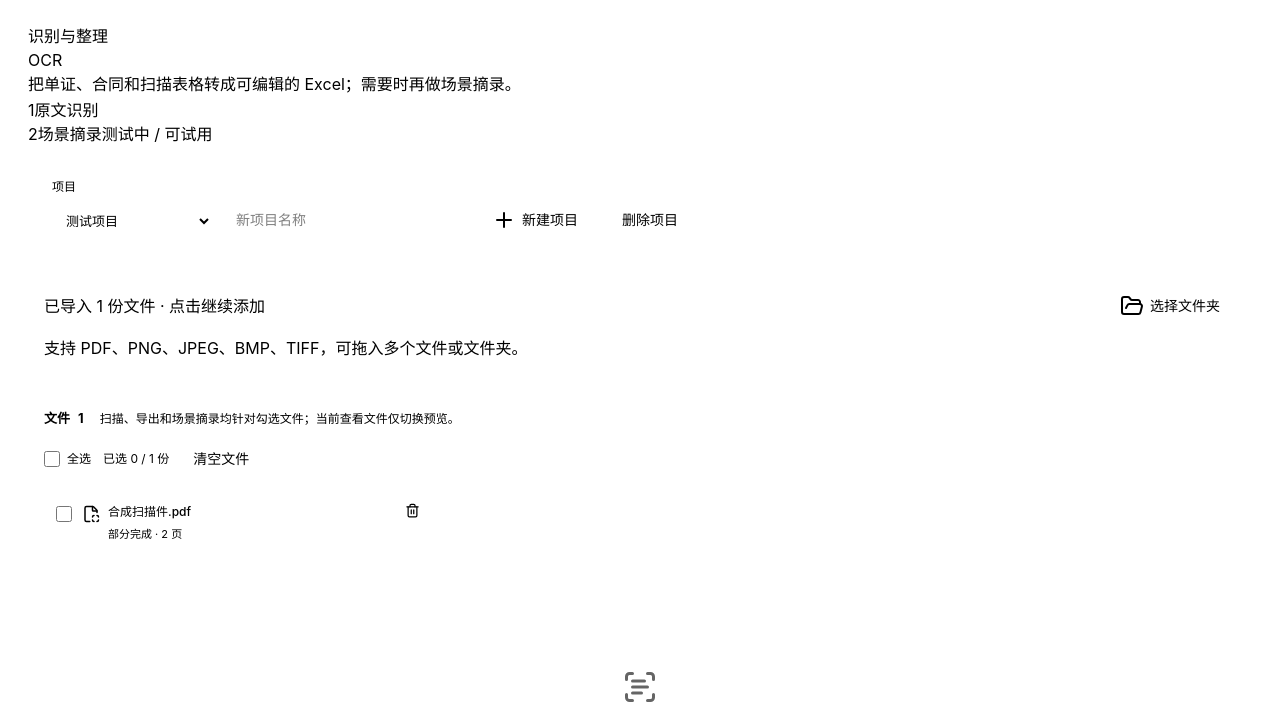
摘录区展示请求与复用统计，失败也保存纯统计诊断
Click the button "合成扫描件.pdf 部分完成 · 2 页" at (150, 511), box [44,489,433,567]
(page scrolled)
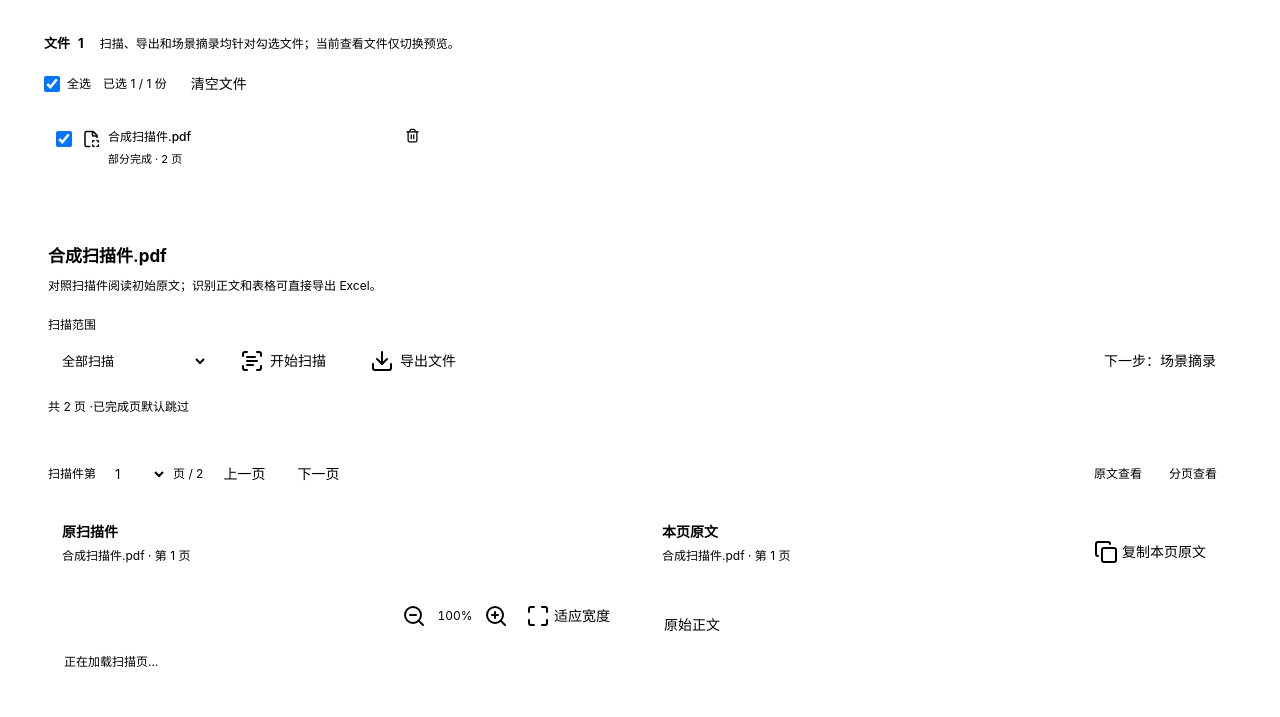
expect the button "开始扫描" is enabled: met, box [224,340,342,380]
Click the button "下一步：场景摘录" at (1160, 360), box [1088,340,1232,380]
(page scrolled)
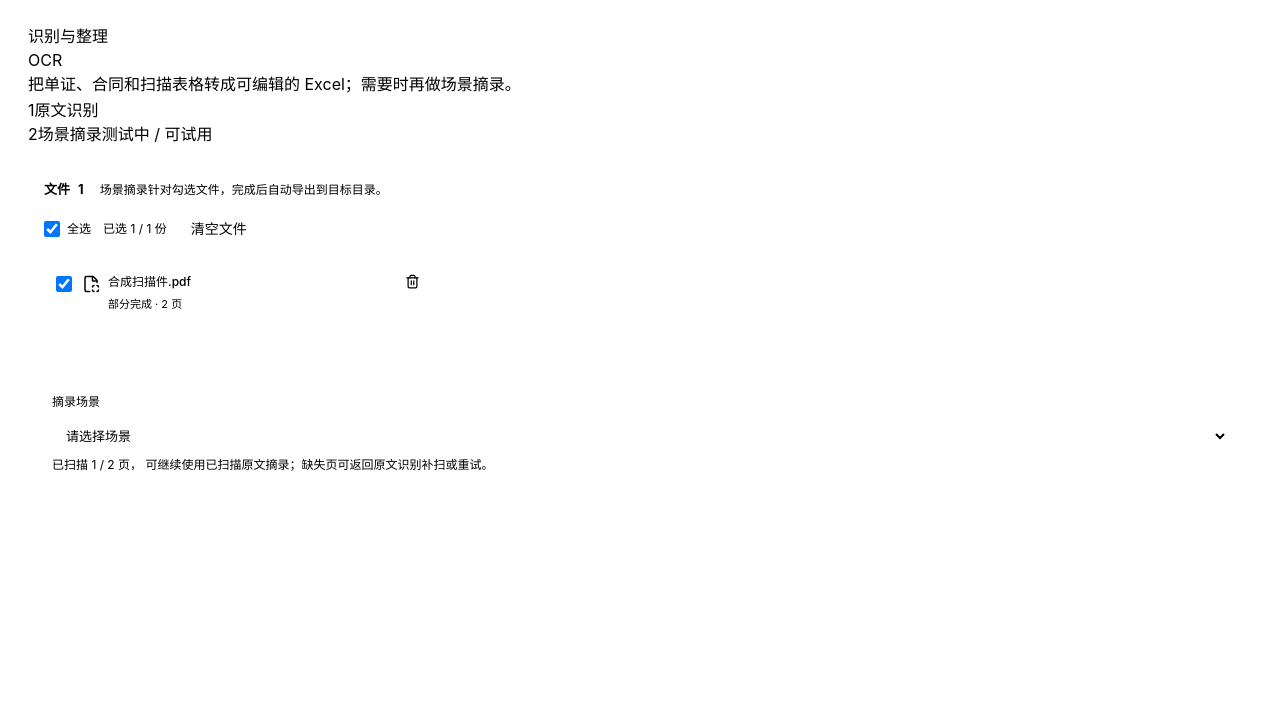
Select "借款通用条款" in the dropdown labelled "摘录场景" at (640, 436), box [52,417,1228,455]
(page scrolled)
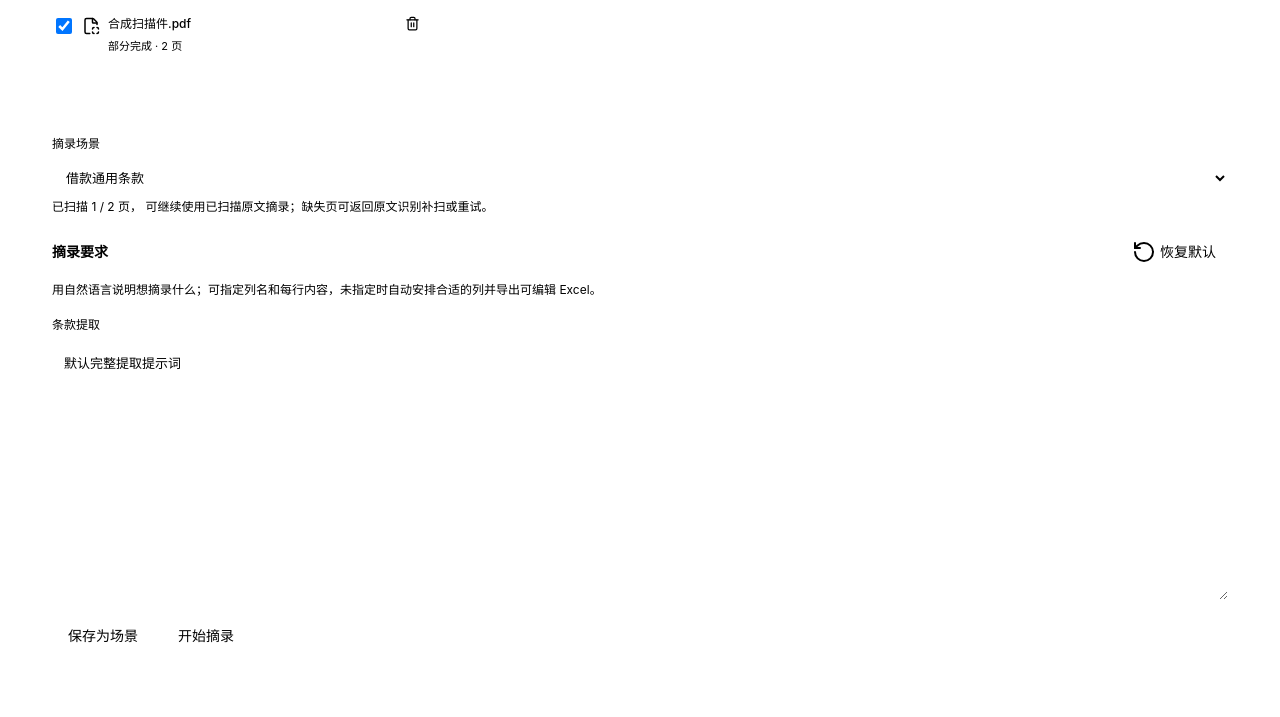
expect the button "开始摘录" is enabled: met
Click the button "开始摘录" at (206, 636), box [162,616,250,656]
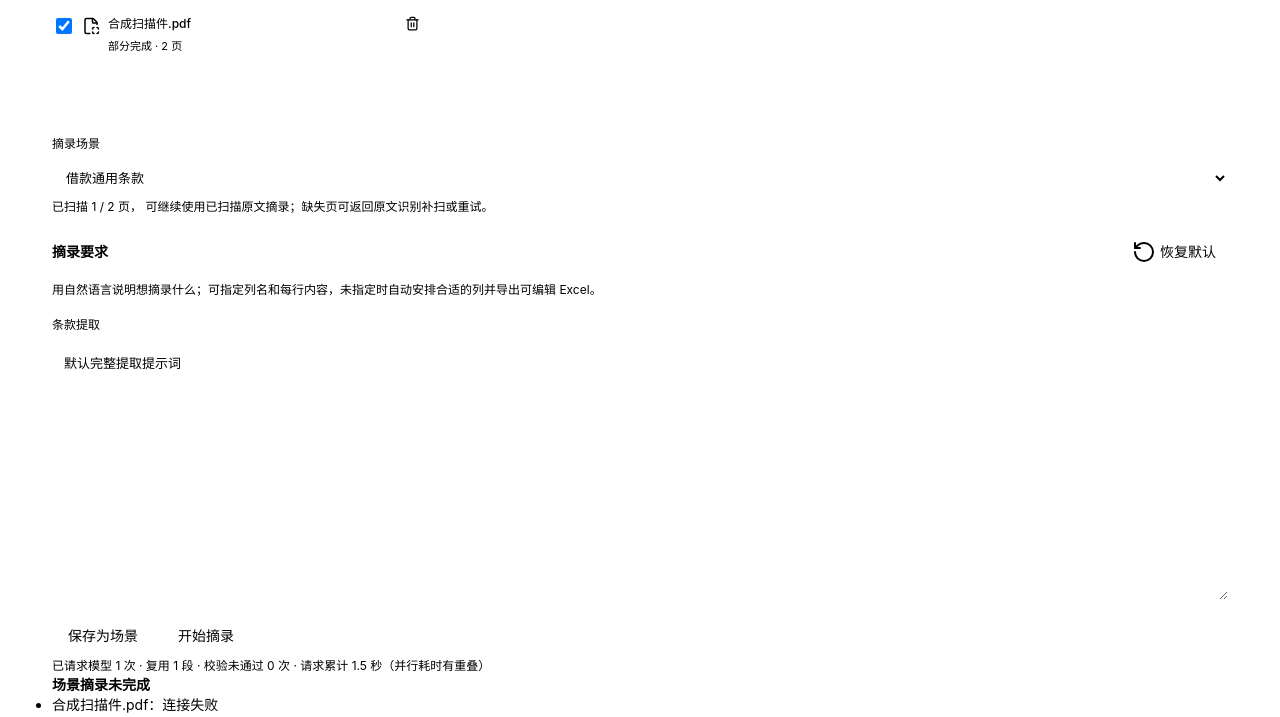
expect the text named "摘录请求统计" shows "已请求模型 1 次 · 复用 1 段": met, box [52,658,490,673]
